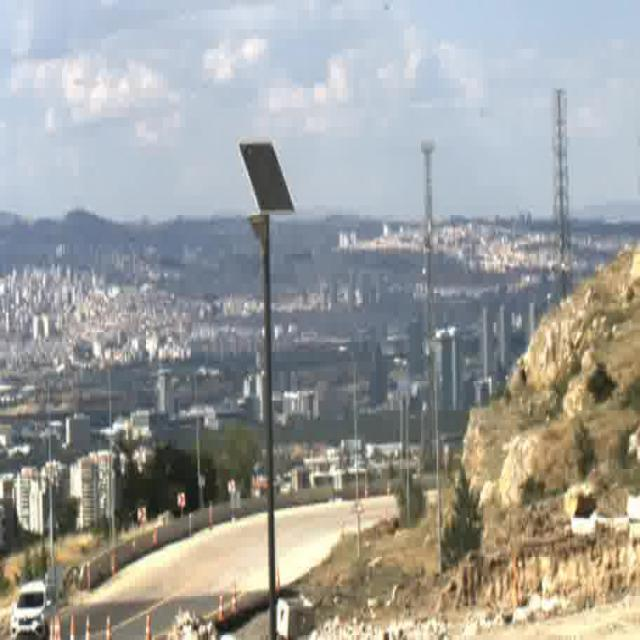Car: (10, 580, 54, 635)
